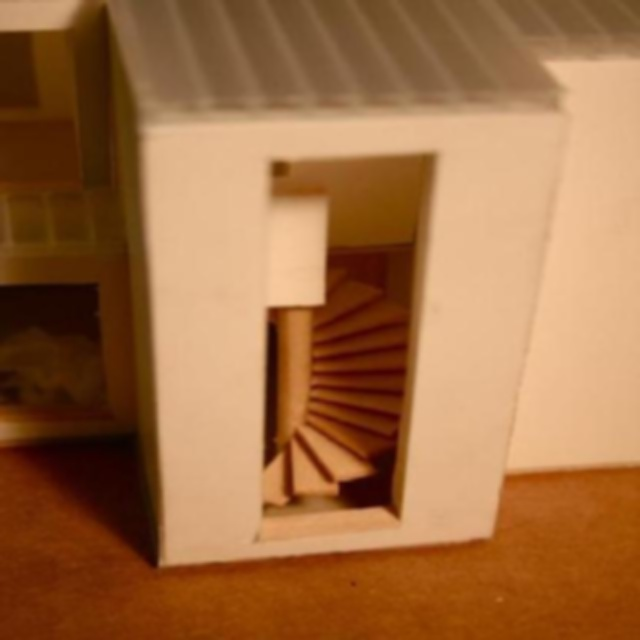stair: (258, 263, 410, 506)
